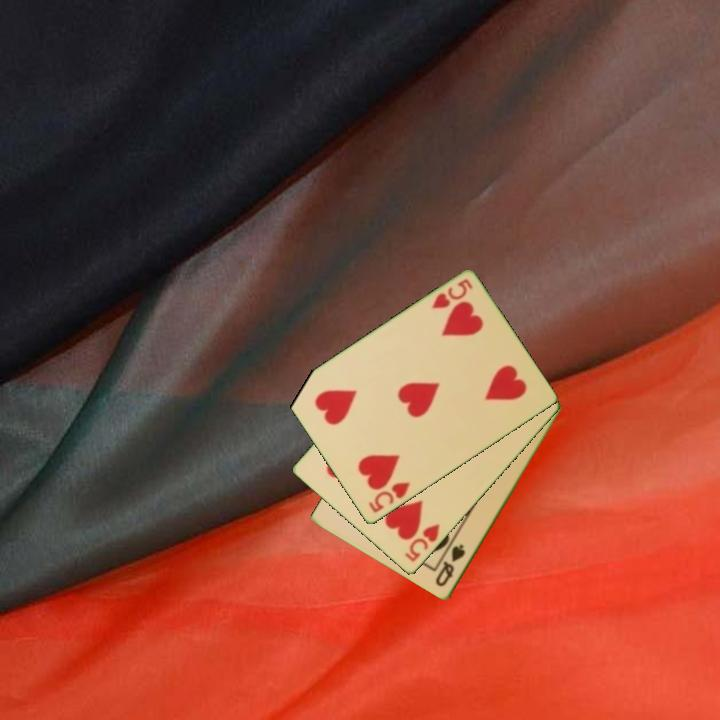5h: (401, 520, 443, 566), (365, 479, 413, 516), (428, 275, 476, 312)
Qs: (432, 541, 468, 590)
